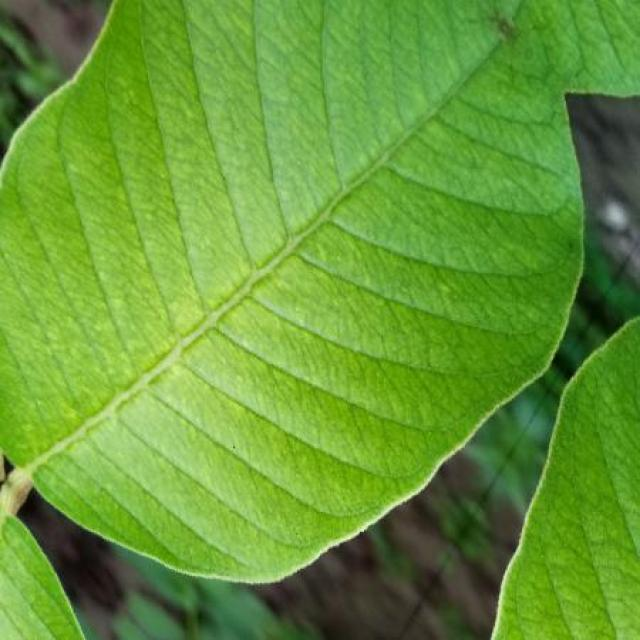Disease Free: (0, 2, 581, 581), (492, 318, 640, 639), (521, 0, 640, 96)
